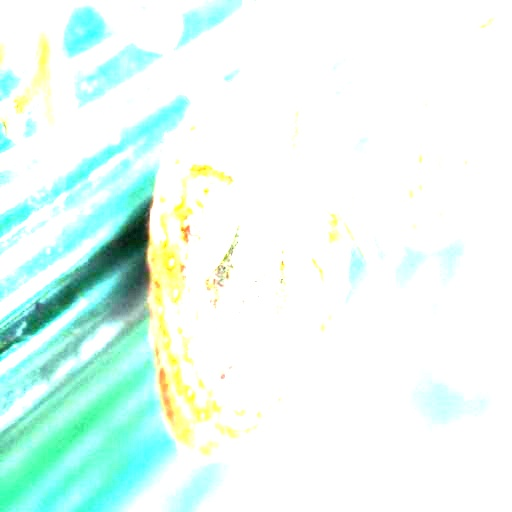Gray Mold: (150, 112, 355, 439)
